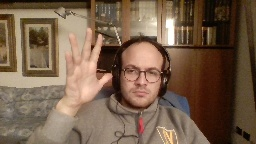Mano_aperta: (62, 26, 113, 104)
